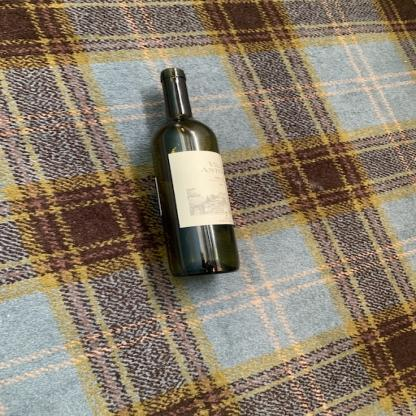trash: (148, 64, 244, 278)
